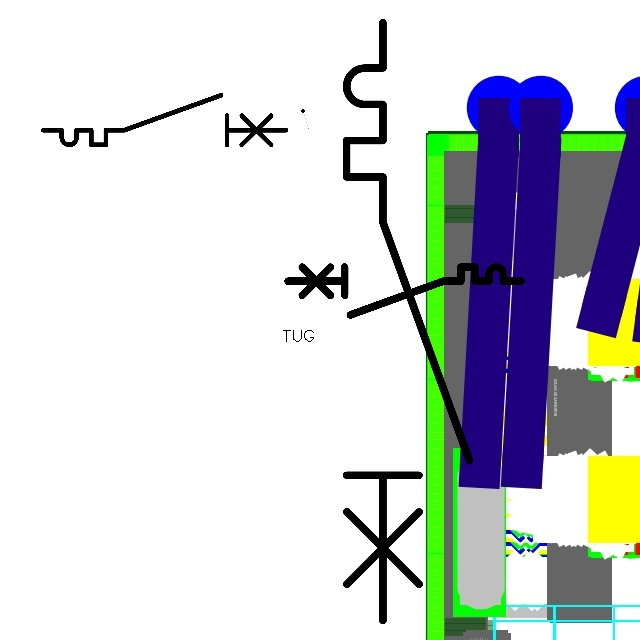interruptor_termomagnetico: (331, 7, 485, 636), (37, 89, 292, 151), (282, 261, 527, 321)
